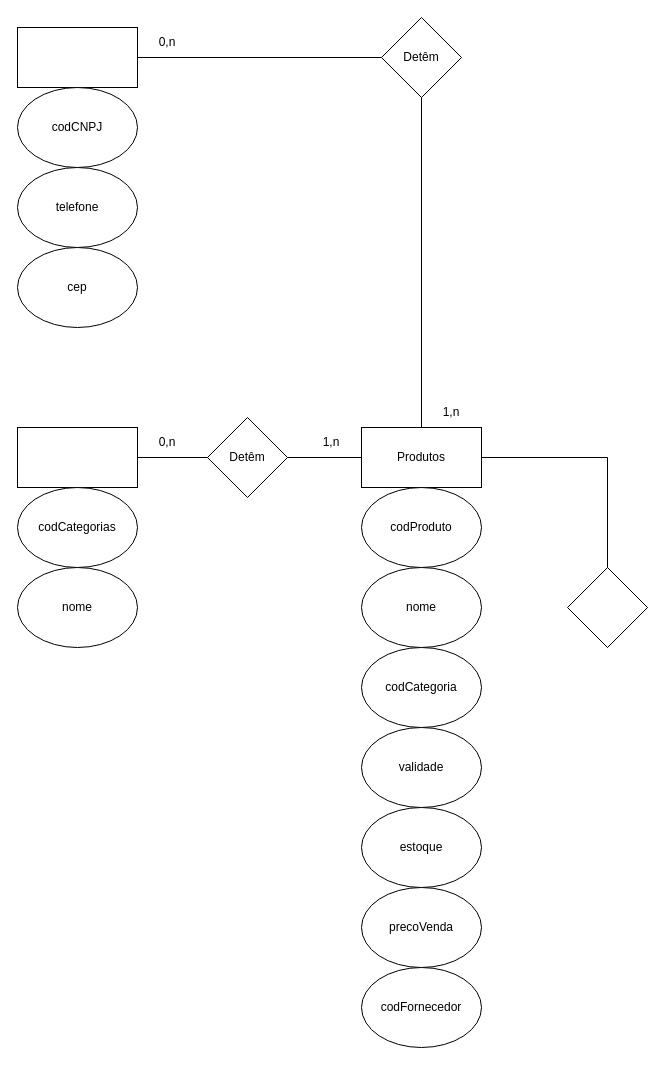
The diagram is 665 pixels wide and 1065 high, and some of its shapes have lost their labels. The shapes that lost their labels are listed below. From the top down, each one's box as (x1, y1, x2, y2) in pixels, then its label:
(16, 26, 138, 88): Fornecedor
(16, 426, 138, 488): Categorias
